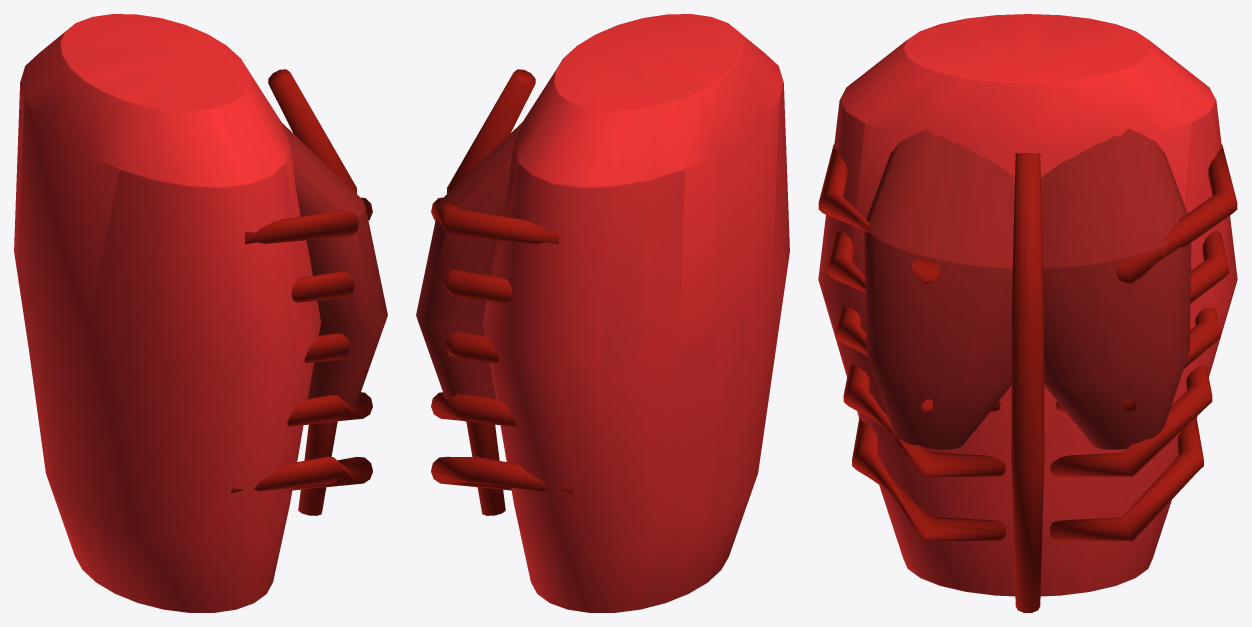
The model's file is SM_RV_GuardianBody.fbx.
3 views of the same model, side by side, from view 1: azimuth 30°, elevation 25°; view 2: azimuth 150°, elevation 25°; view 3: azimuth 270°, elevation 25° (orthographic).
Visible parts, largest first — view 1: SM_RV_GuardianBody; view 2: SM_RV_GuardianBody; view 3: SM_RV_GuardianBody.
Part boxes in pixels (x1=…): SM_RV_GuardianBody: x1=14, y1=14, x2=387, y2=612; SM_RV_GuardianBody: x1=416, y1=14, x2=789, y2=612; SM_RV_GuardianBody: x1=818, y1=14, x2=1237, y2=612.
Size of the model in its own units: 59 by 48.15 by 78.
